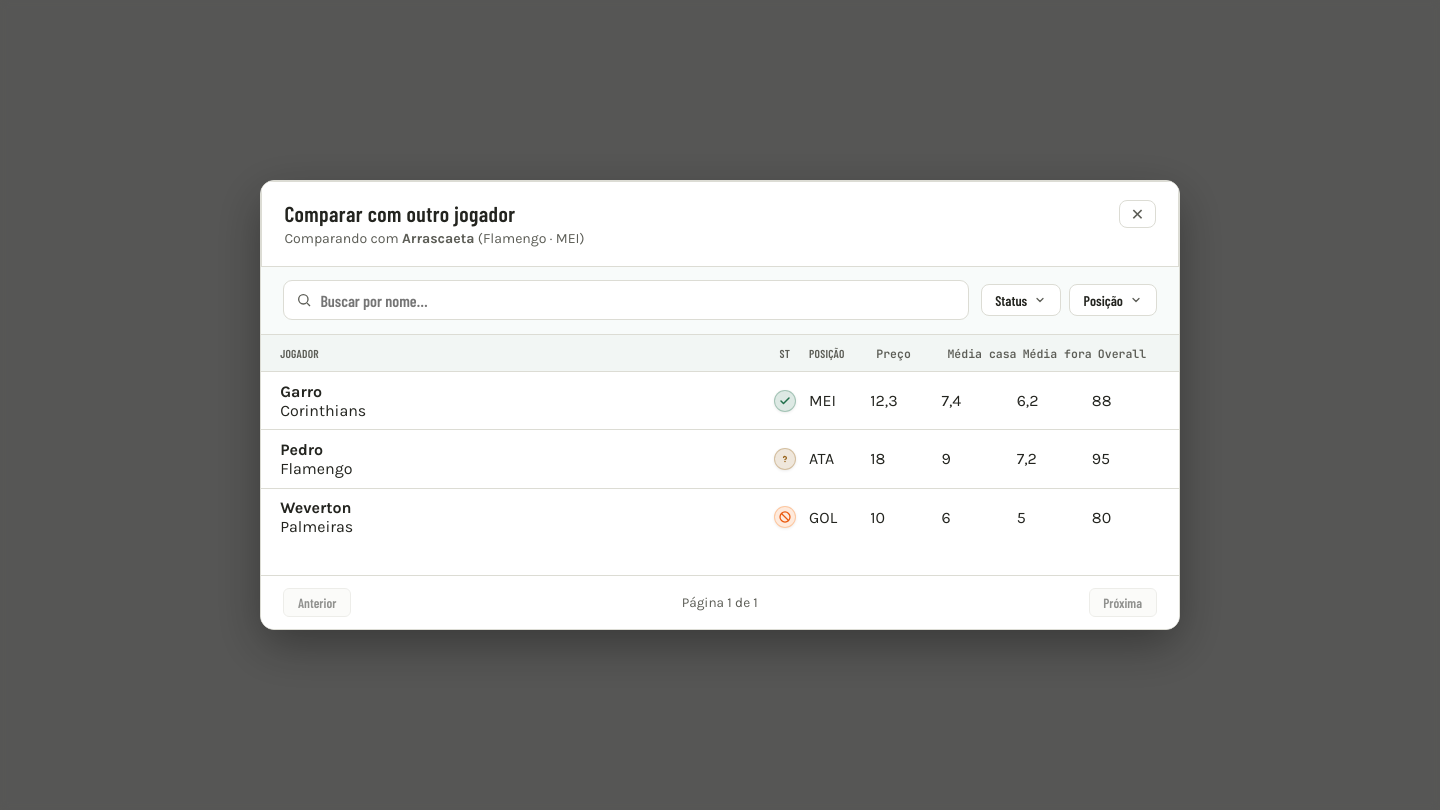
Scenario: ModalCompararJogador › filtra atletas por múltiplos status no dropdown de status do modal
expect the text "Garro" is shown: met, box left=280, top=382, right=322, bottom=401
Click the button "Status" at (1021, 300), box left=981, top=284, right=1061, bottom=316
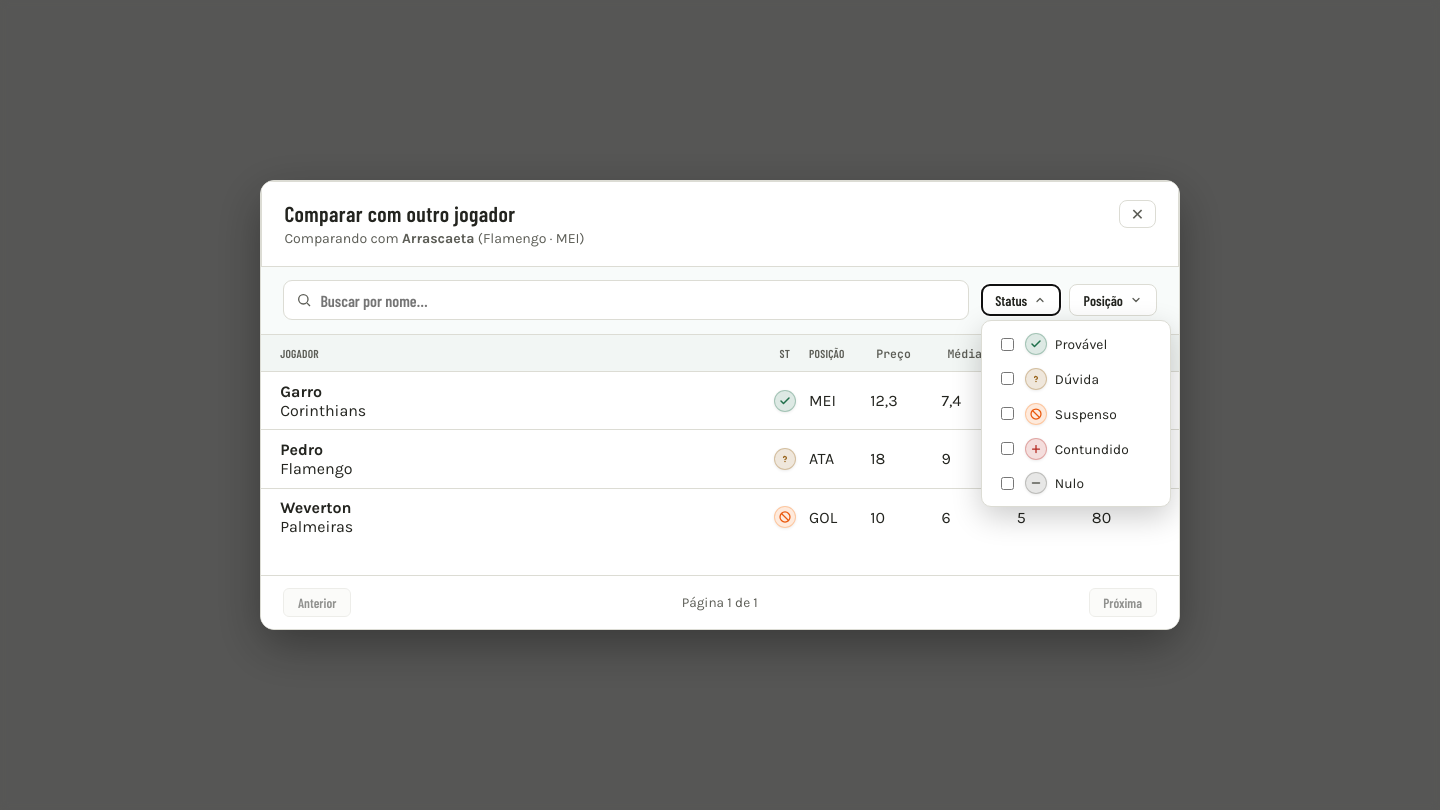
Click the option "Dúvida" at (1077, 379), box left=1001, top=368, right=1099, bottom=390
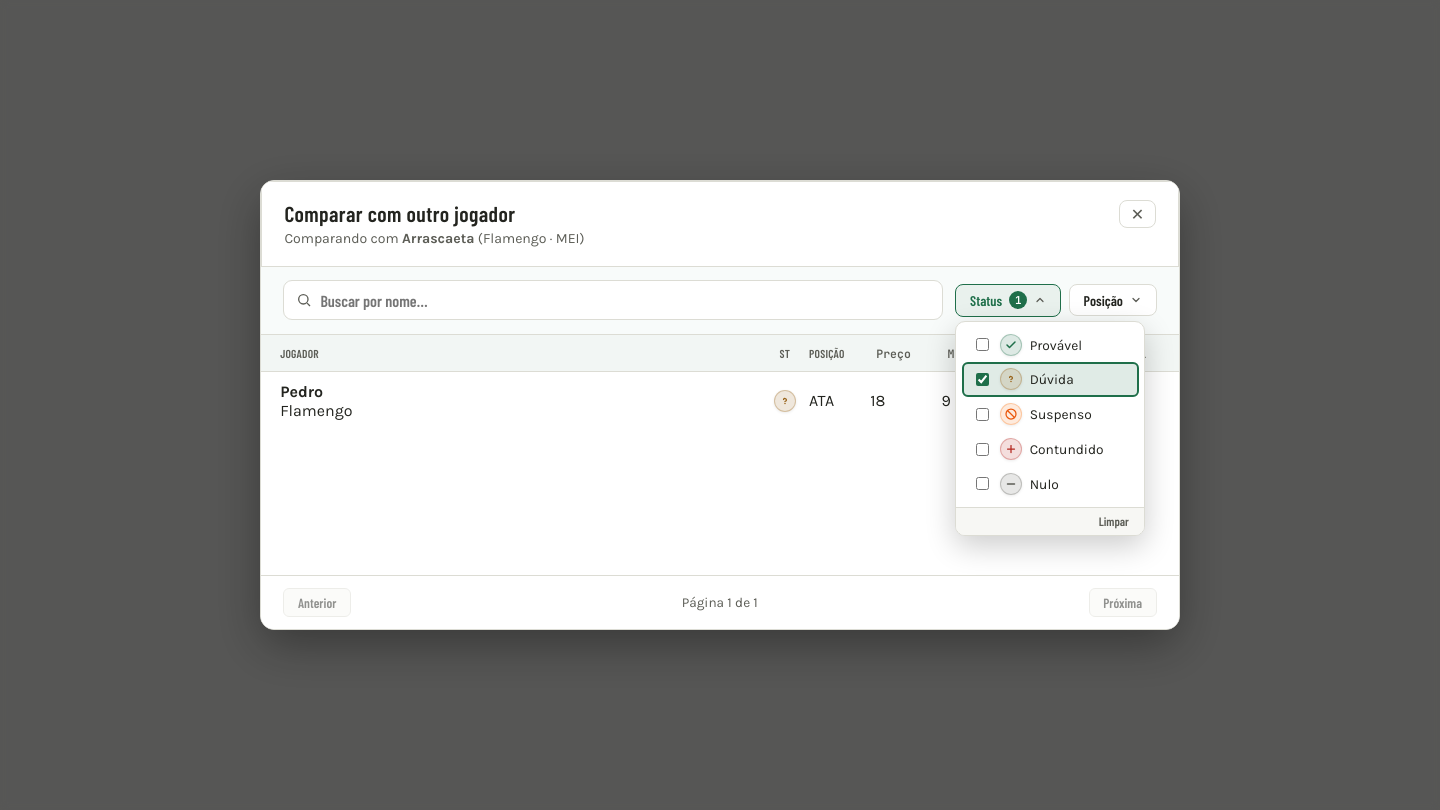
expect the text "Pedro" is shown: met, box left=280, top=382, right=323, bottom=401
expect the button "Garro" is gone: met
expect the button "Weverton" is gone: met
# Adiciona Provável na multi-seleção
Click the option "Provável" at (1029, 345), box left=976, top=334, right=1082, bottom=356
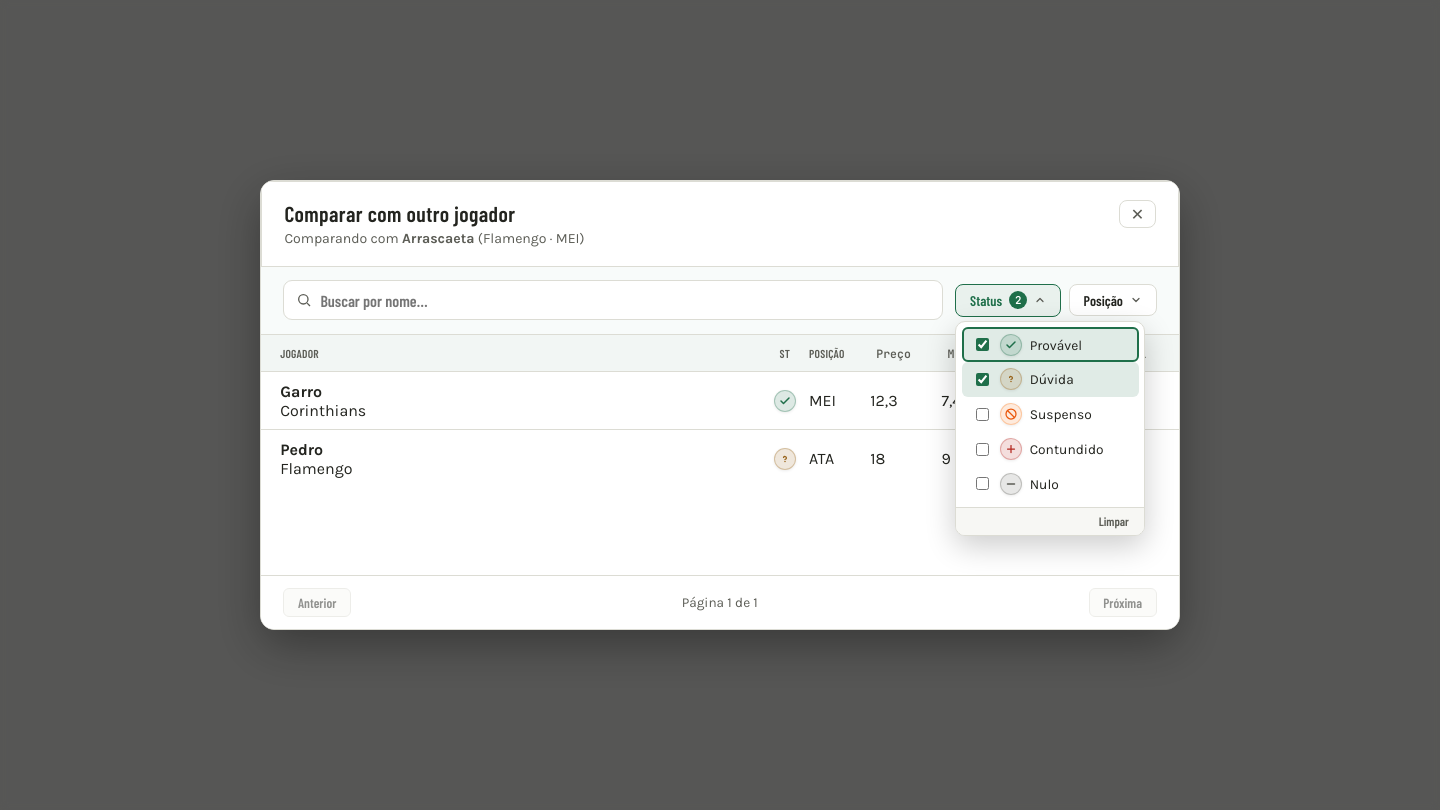
expect the text "Pedro" is shown: met, box left=280, top=440, right=323, bottom=459
expect the text "Garro" is shown: met, box left=280, top=382, right=322, bottom=401
